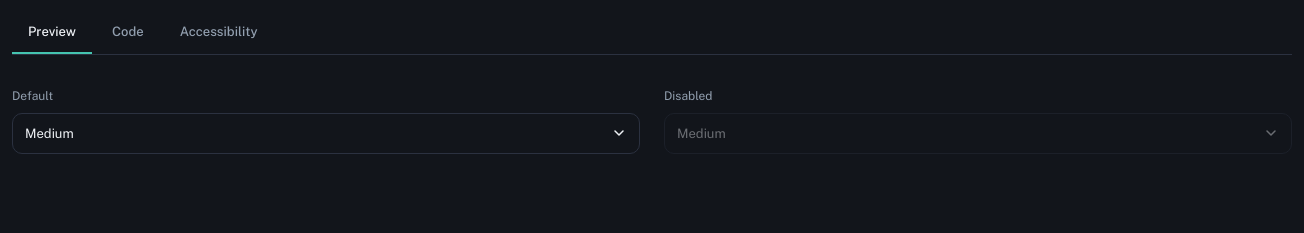
Test: SelectDoc › switches to the Accessibility tab and lists the a11y notes
What coordinates should you click on to do the following:
click the tab "Accessibility"
I would click on:
 (219, 33)
Its box is 164,12 -> 274,54.
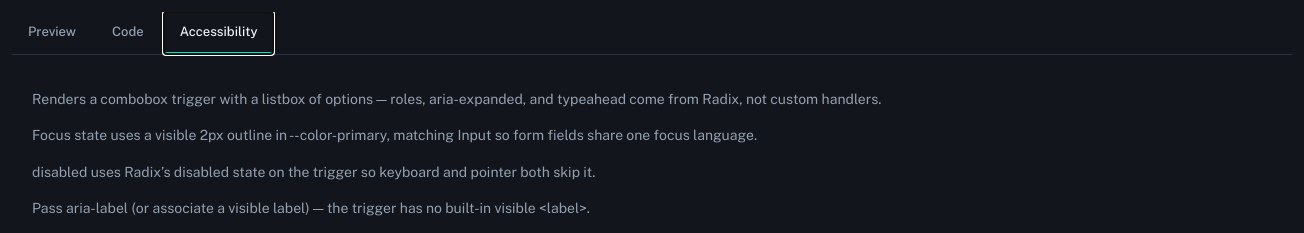
expect the list item "combobox" is shown: met, box 32,90 -> 881,106
expect the list item "aria-label" is shown: met, box 32,200 -> 590,216
